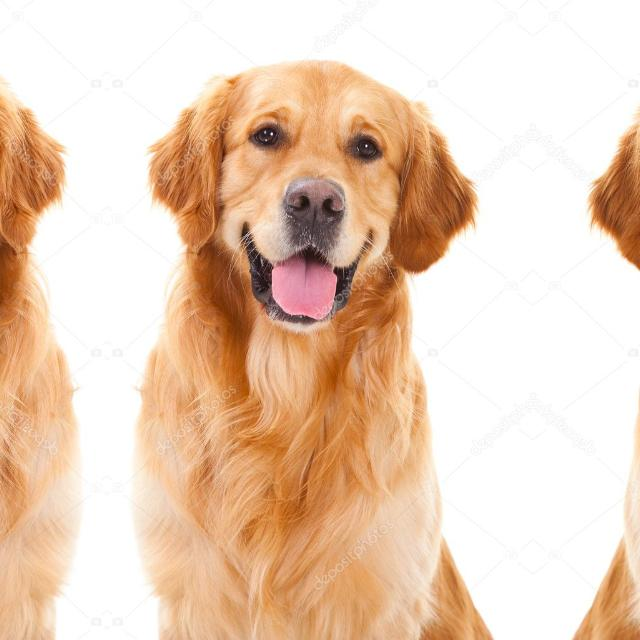dog: (123, 32, 500, 640), (0, 32, 88, 640), (564, 32, 640, 640)
